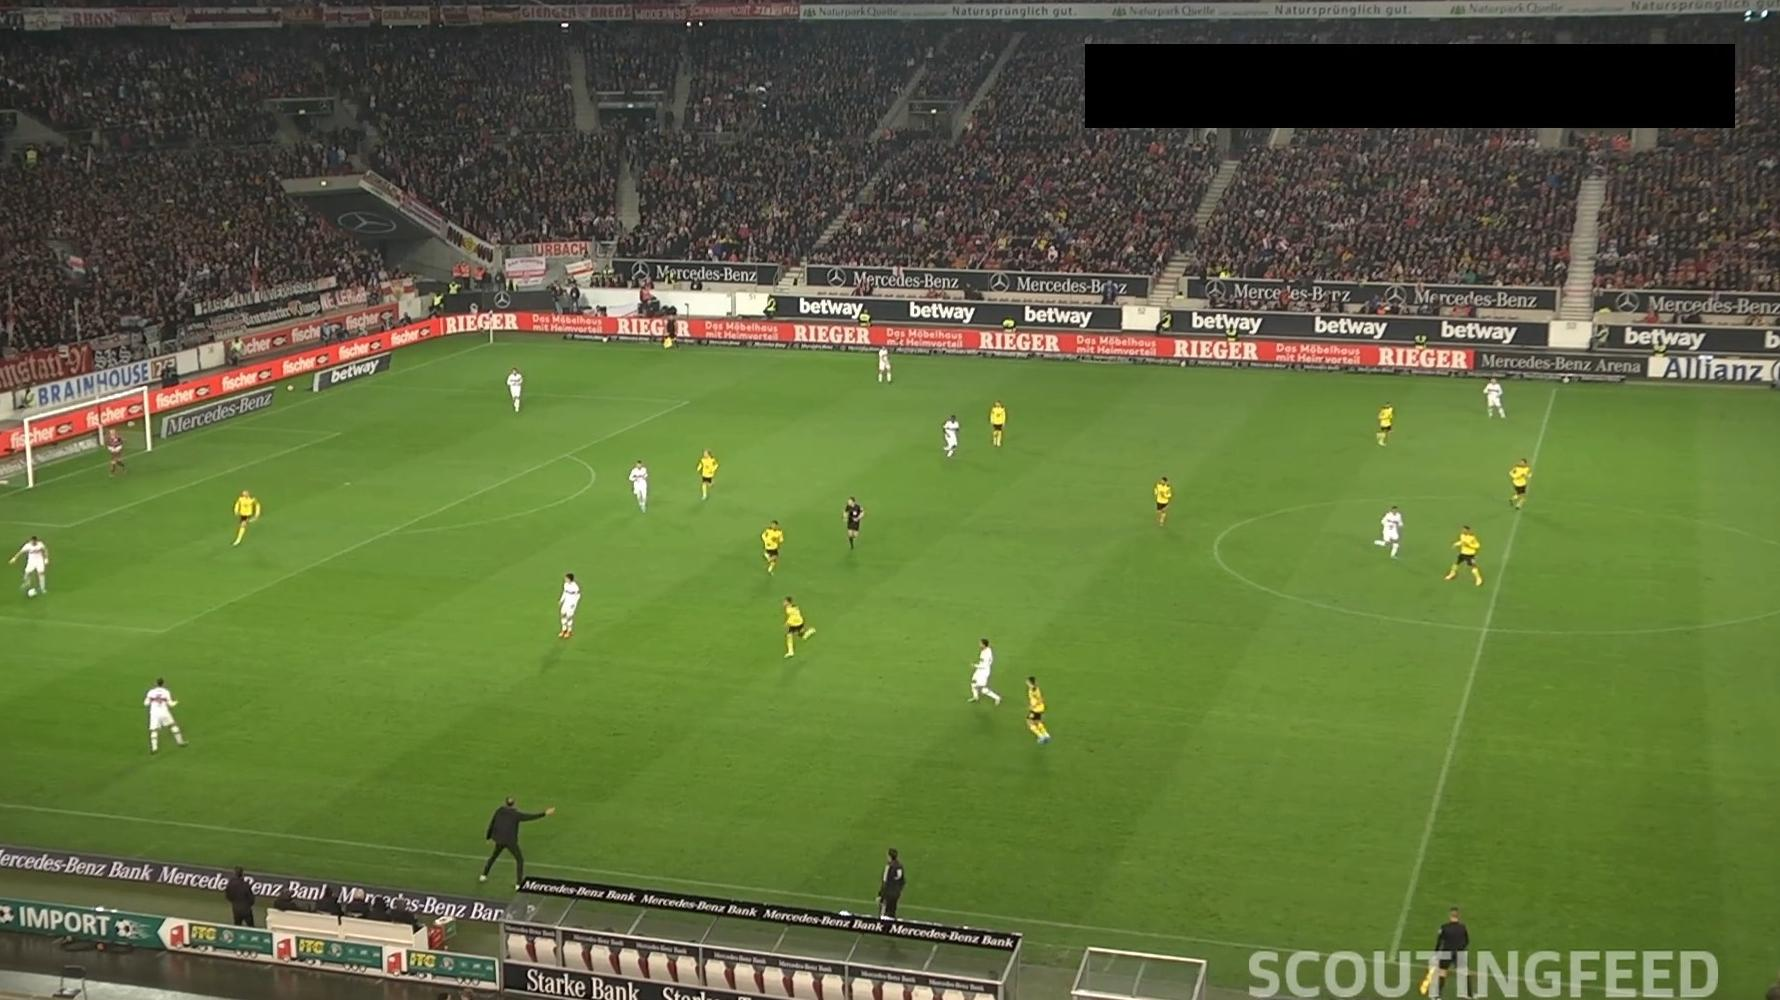ball: (27, 587, 38, 599)
